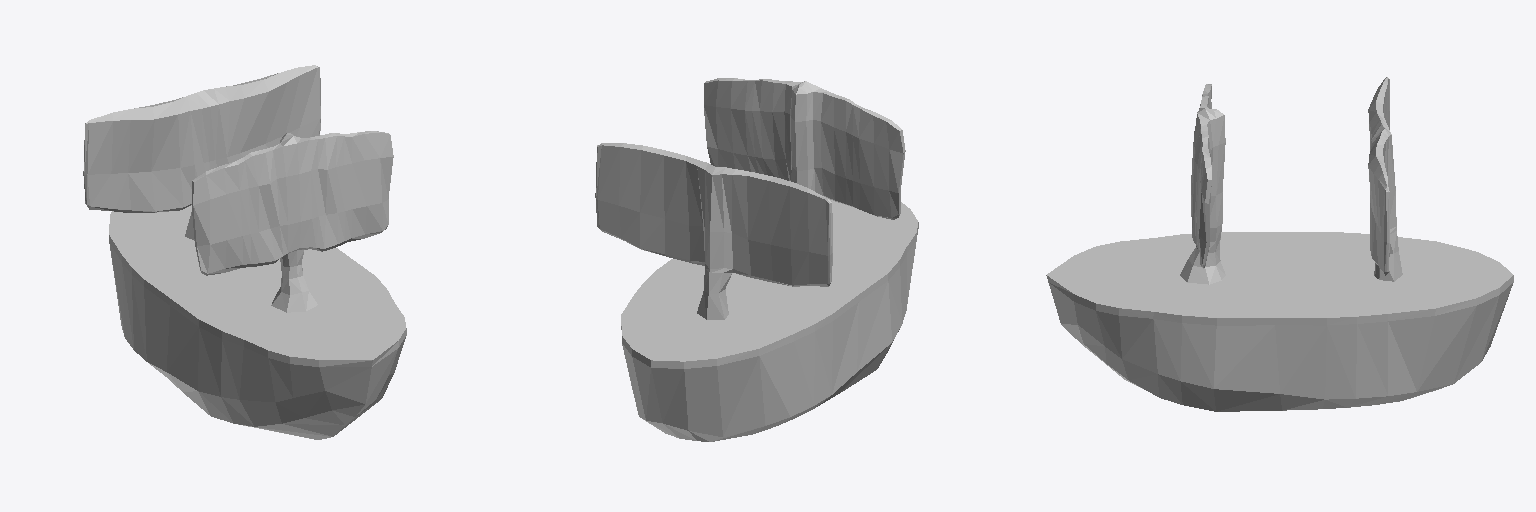
The model's file is Boat.obj.
3 renders of one model, left to right at view 1: azimuth 30°, elevation 25°; view 2: azimuth 150°, elevation 25°; view 3: azimuth 270°, elevation 25°, orthographic.
Visible parts, largest first — view 1: Boat1; view 2: Boat1; view 3: Boat1.
Part boxes in pixels (left/top/right/bottom): Boat1: left=83, top=65, right=406, bottom=439; Boat1: left=595, top=78, right=918, bottom=441; Boat1: left=1046, top=77, right=1513, bottom=411.
Bounding box in the file's own units: 9.04 × 10.77 × 15.46.